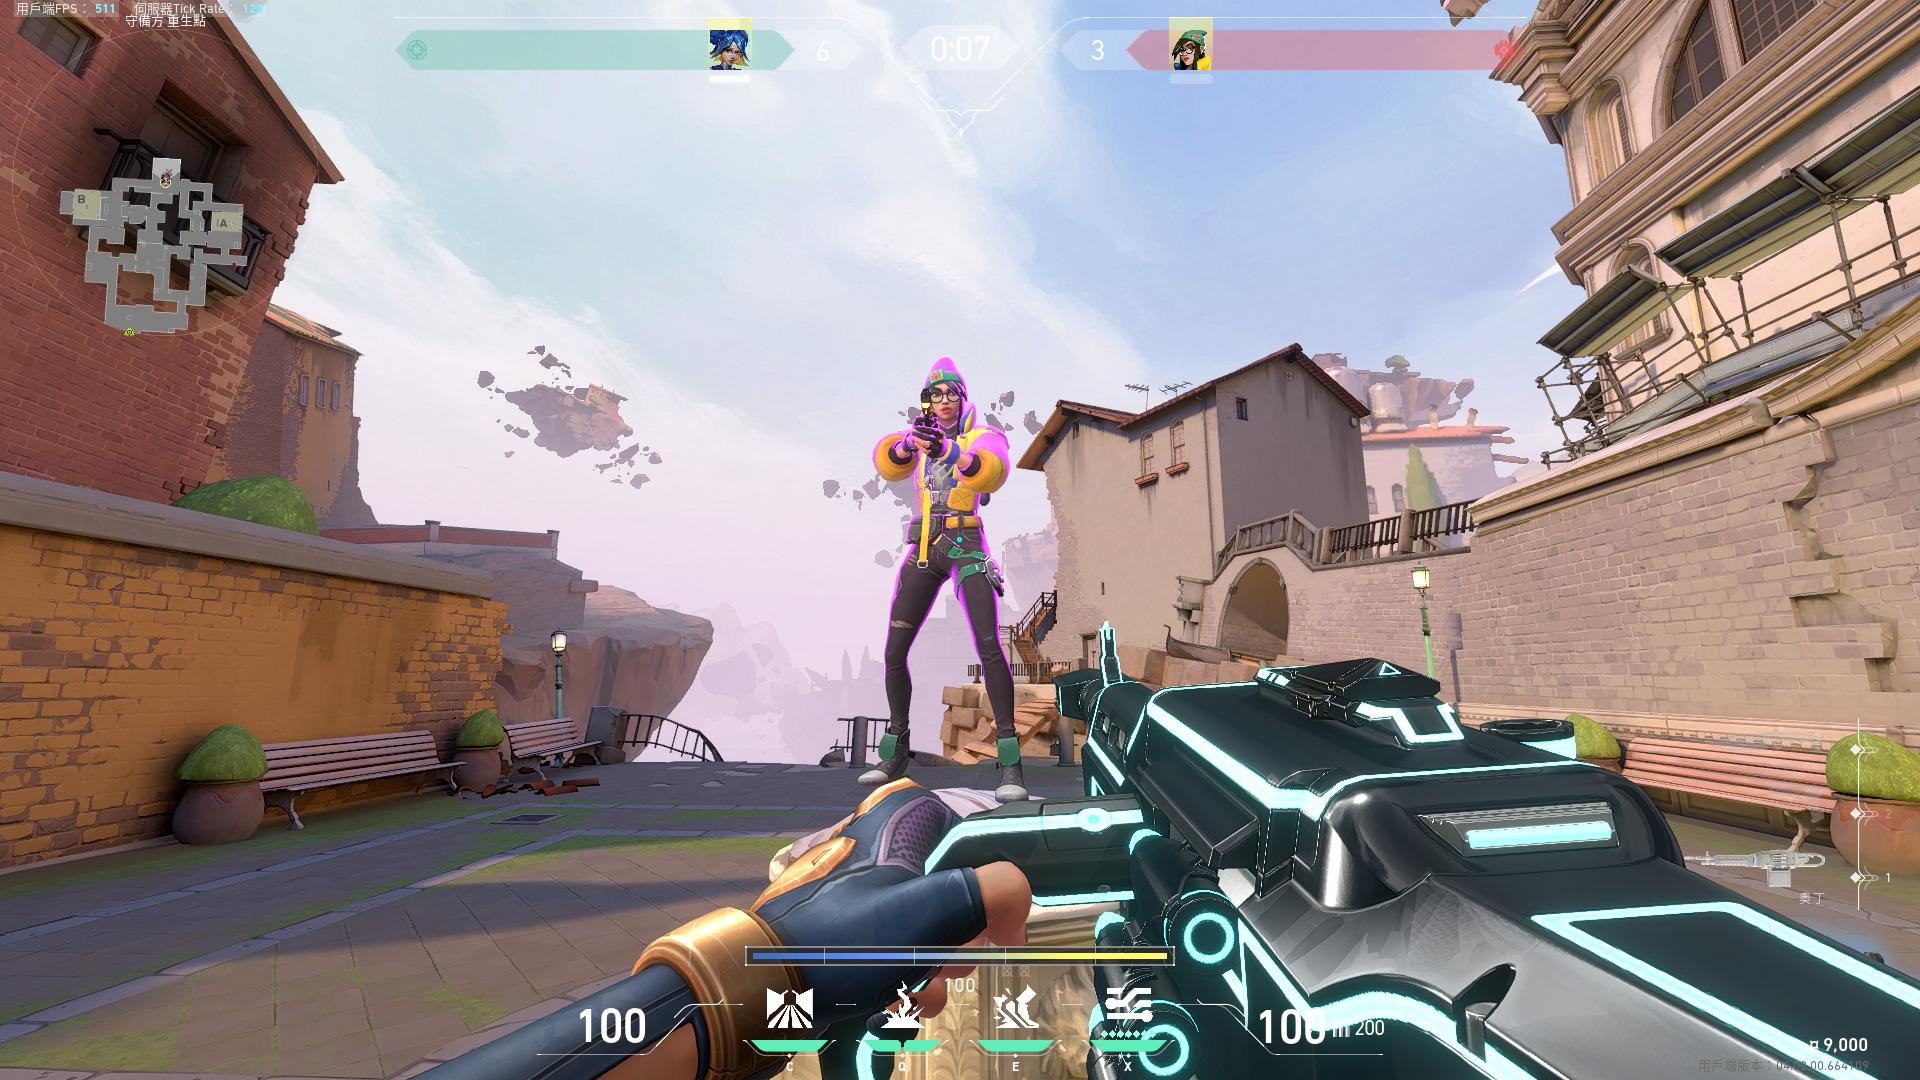enemyBody: (919, 440, 971, 537)
enemyHead: (939, 390, 957, 422)
